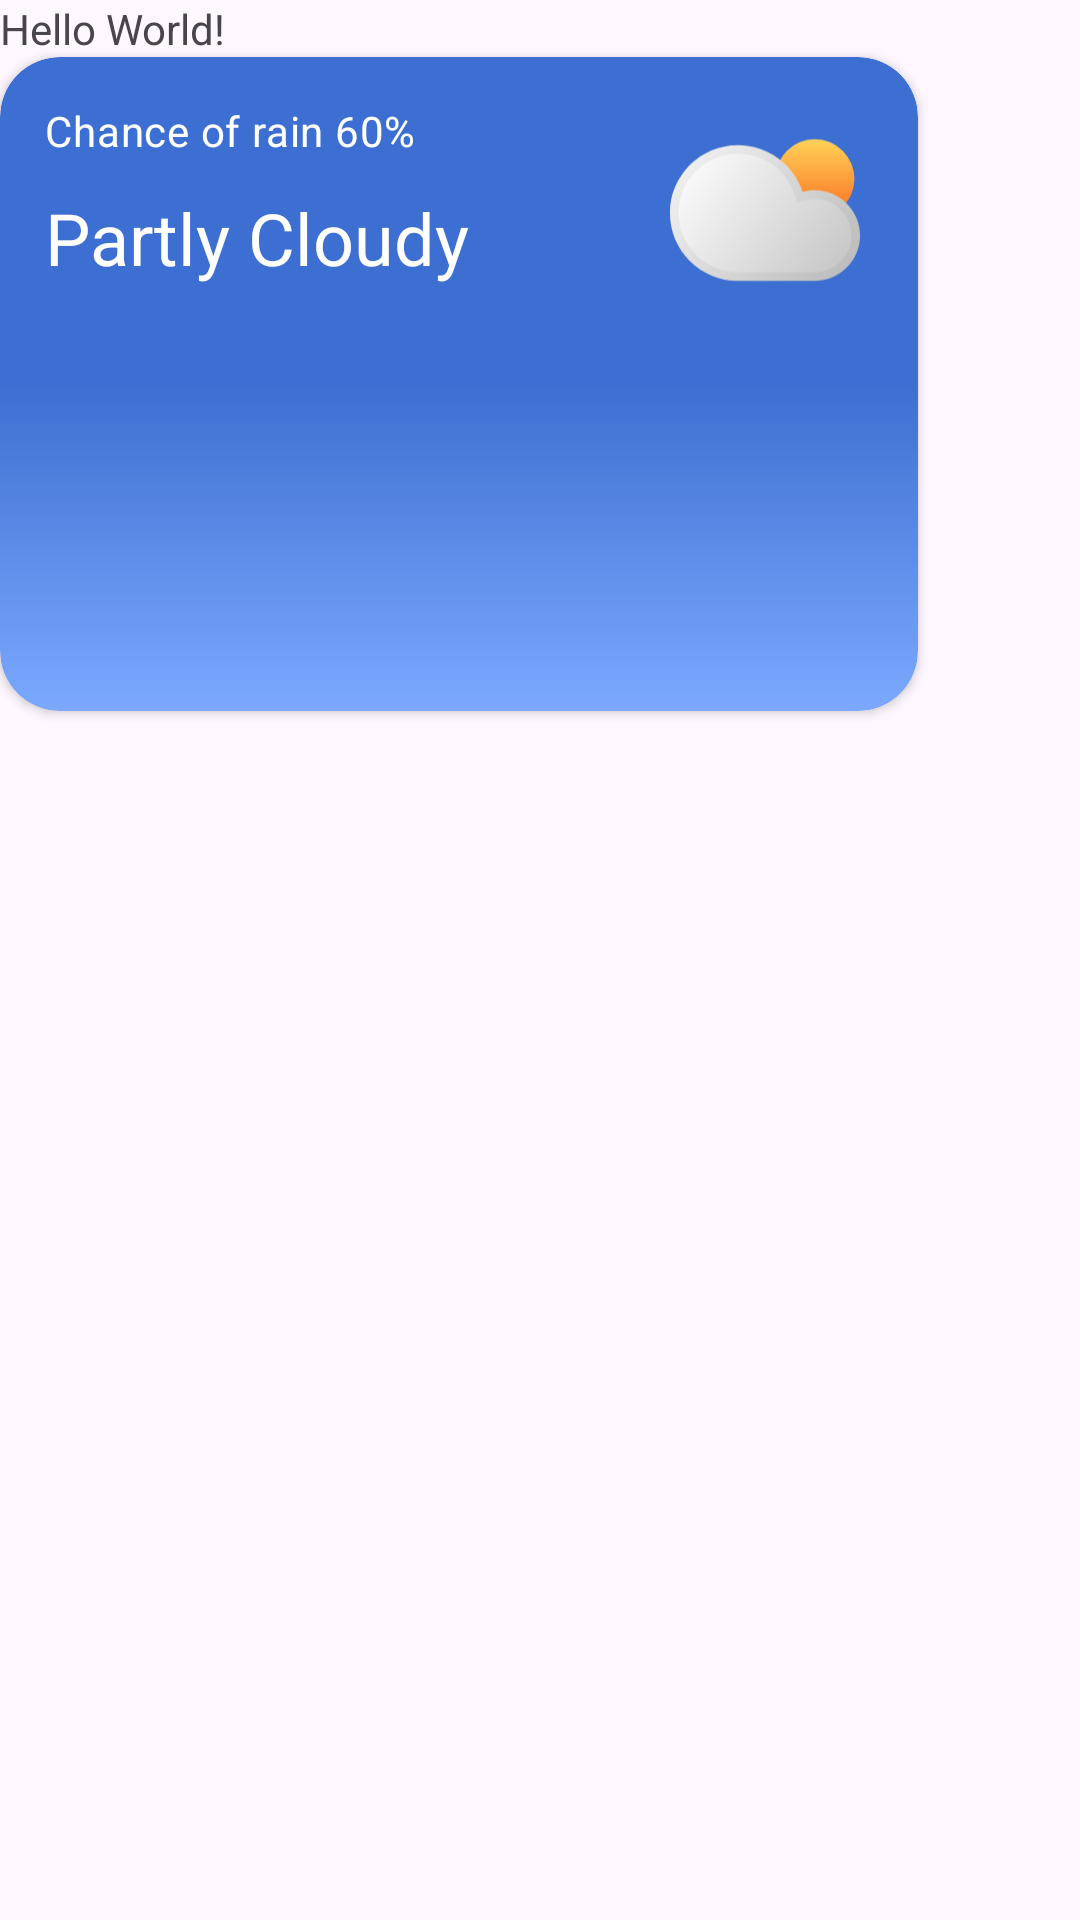

Icons on this 1080 x 1920 Android screen, each with the point to tap as point (x, y):
mcloudy: point (765, 210)
